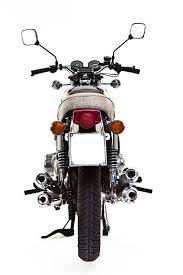motor: (9, 24, 178, 263)
